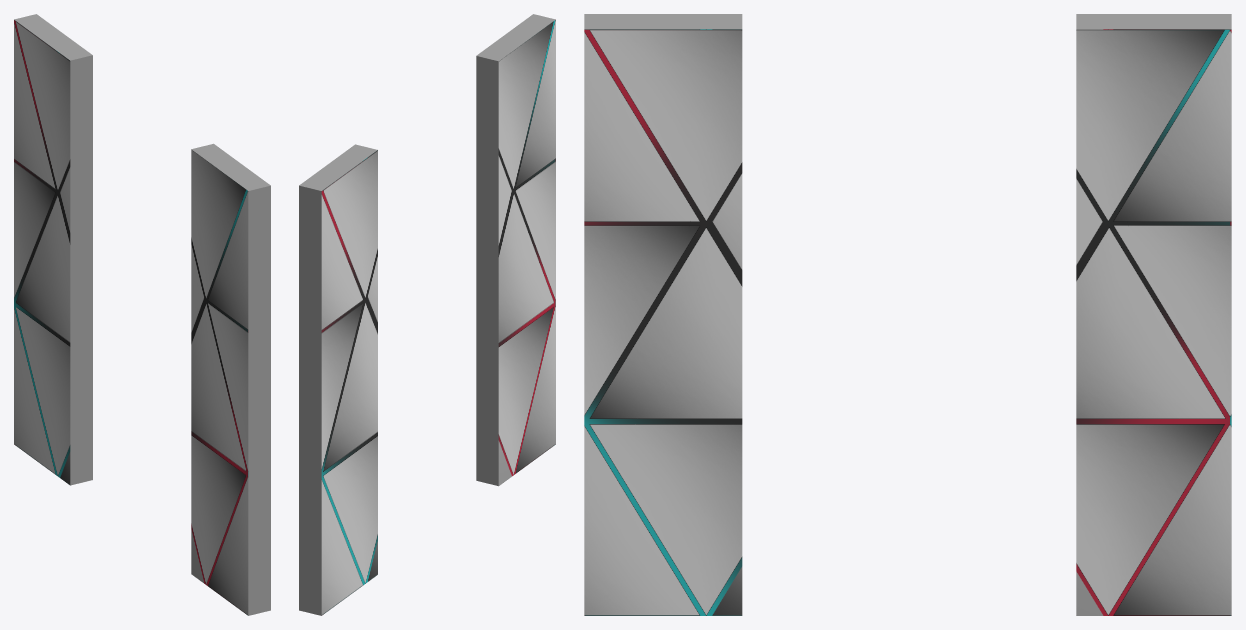
File: Door.fbx
3 renders of one model, left to right at view 1: azimuth 30°, elevation 25°; view 2: azimuth 150°, elevation 25°; view 3: azimuth 270°, elevation 25°, orthographic. The views are drawn at different scales.
Visible parts, largest first — view 1: Door1; view 2: Door1; view 3: Door1.
Part boxes in pixels (left/top/right/bottom): Door1: left=14, top=14, right=270, bottom=615; Door1: left=299, top=14, right=555, bottom=615; Door1: left=584, top=14, right=1231, bottom=615.
Bounding box in the file's own units: 0.1112 × 2 × 2.
